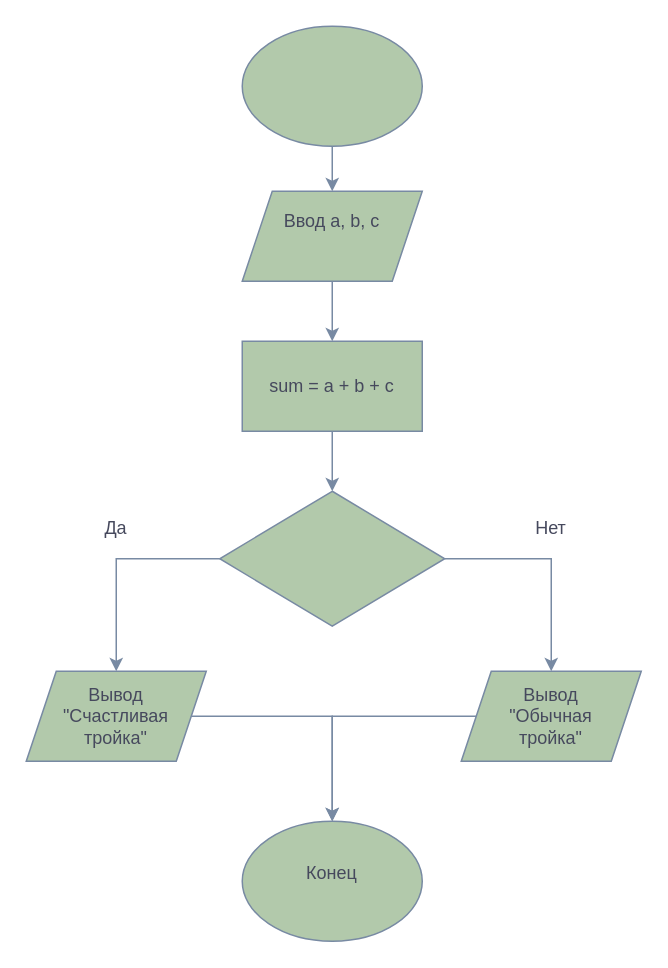
Some shapes in this 668 by 968 pixel diagram are drawn without their labels. Here are the shapes that lost their labels. From the top down, the centre of each, then its label:
the point at 331,85: Начало
the point at 331,558: sum % 3 == 0 ?
